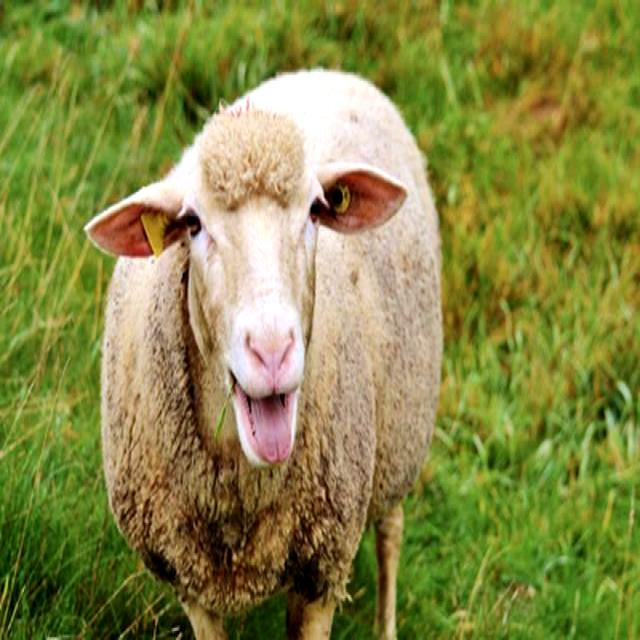sheep: (84, 66, 443, 640)
